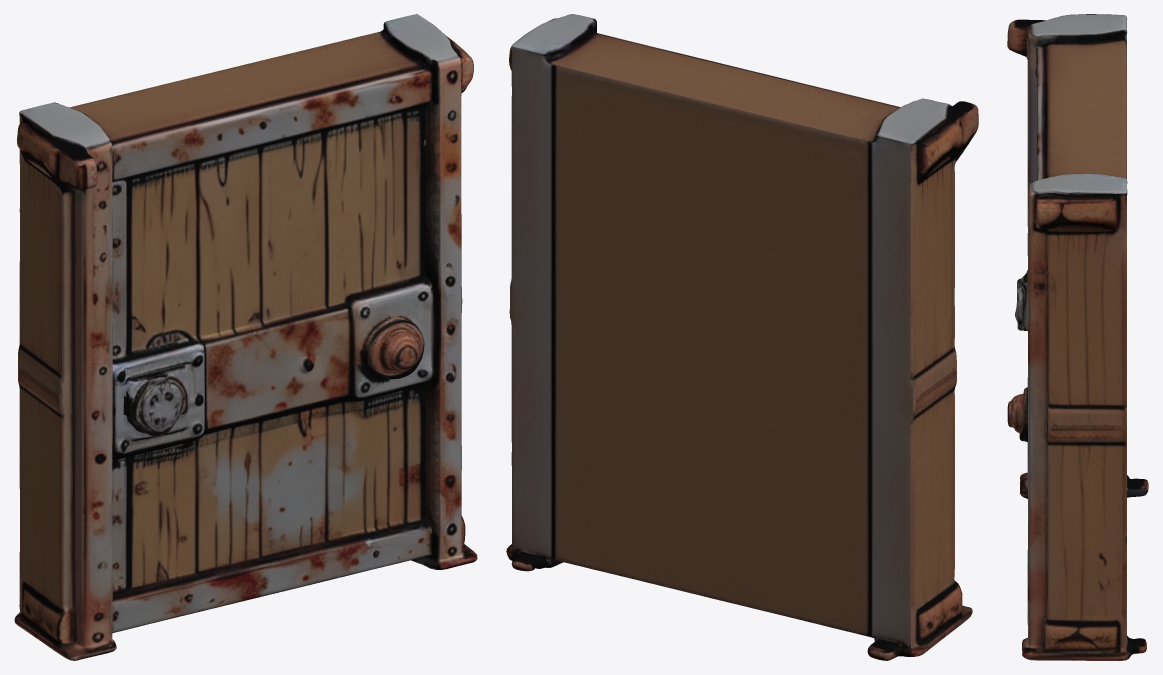
The model's file is catalog-build-49.glb.
3 views of the same model, side by side, from view 1: azimuth 30°, elevation 25°; view 2: azimuth 150°, elevation 25°; view 3: azimuth 270°, elevation 25° (orthographic). The views are drawn at different scales.
Visible parts, largest first — view 1: tmpphup6i45.ply; view 2: tmpphup6i45.ply; view 3: tmpphup6i45.ply.
Boxes of the visible parts, left/top/right/bottom form: tmpphup6i45.ply: left=14, top=14, right=477, bottom=660; tmpphup6i45.ply: left=506, top=14, right=978, bottom=660; tmpphup6i45.ply: left=1007, top=14, right=1148, bottom=660.
Size of the model in its own units: 1.67 by 1.96 by 0.5366.
1 material, 1 textured.
